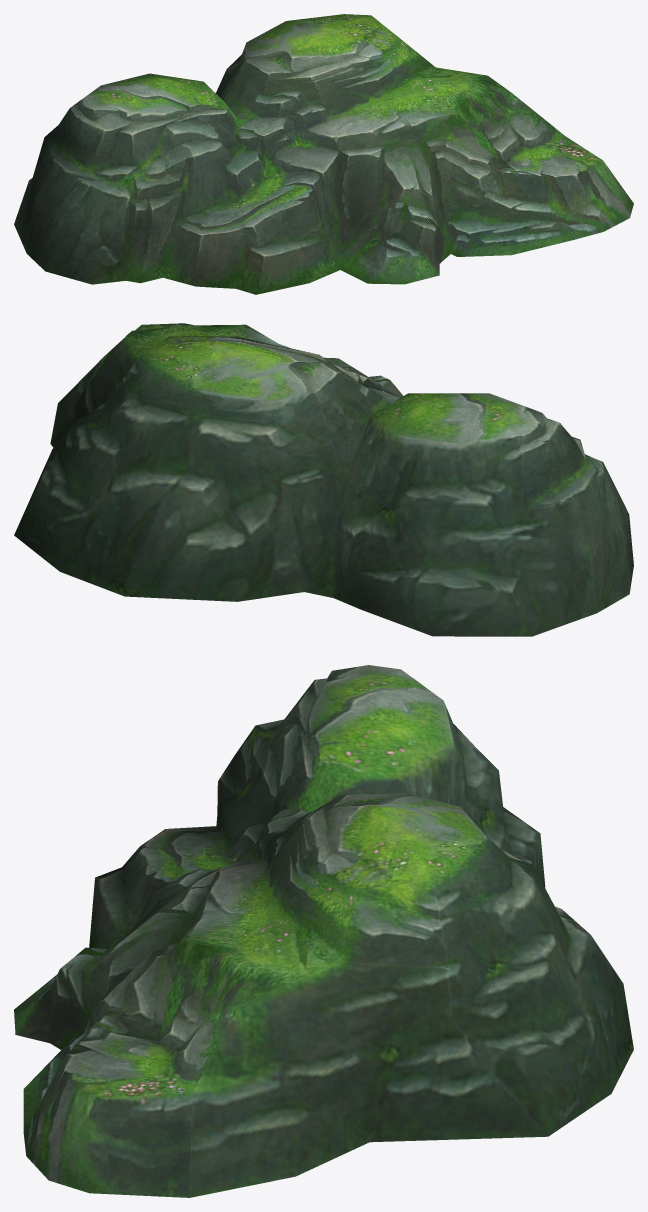
The model's file is yewai_x_lvseshanti13.FBX.
The picture shows the model from 3 angles, top to bottom: view 1: azimuth 30°, elevation 25°; view 2: azimuth 150°, elevation 25°; view 3: azimuth 270°, elevation 25°; orthographic projection. The views are drawn at different scales.
Parts seen in each view (by area): view 1: THA_x_lvseshanti13; view 2: THA_x_lvseshanti13; view 3: THA_x_lvseshanti13.
Part boxes in pixels (x1,y1,x2,y2): THA_x_lvseshanti13: [14, 14, 633, 294]; THA_x_lvseshanti13: [14, 323, 633, 636]; THA_x_lvseshanti13: [14, 665, 633, 1197].
Bounding box in the file's own units: 1911 × 516 × 1340.
